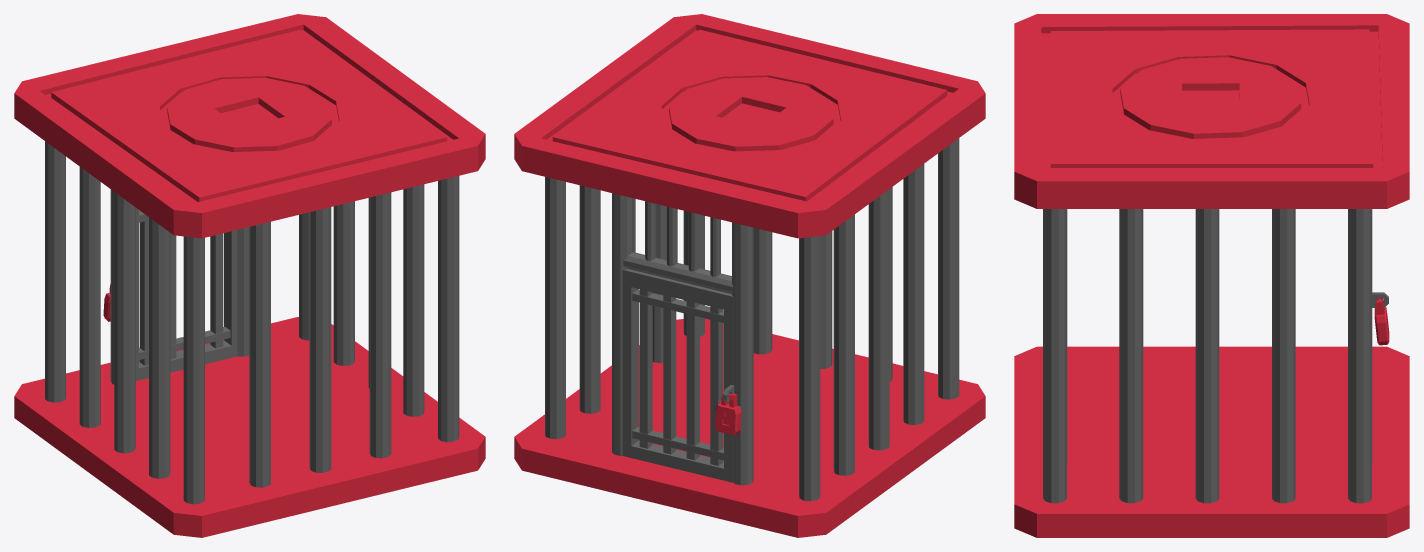
The model's file is Cage.fbx.
3 renders of one model, left to right at view 1: azimuth 30°, elevation 25°; view 2: azimuth 150°, elevation 25°; view 3: azimuth 270°, elevation 25°, orthographic. The views are drawn at different scales.
Visible parts, largest first — view 1: Cage, Cylinder.001, Cube.009; view 2: Cage, Cylinder.001, Cube.009, Cylinder.003, Cylinder.002, Cube.010; view 3: Cage, Cylinder.001, Cube.010.
Boxes of the visible parts, x1,y1,x2,y2 form: Cage: (14,14,485,537); Cylinder.001: (45,141,459,504); Cube.009: (135,208,237,380); Cage: (514,14,985,537); Cylinder.001: (545,138,959,501); Cube.009: (622,269,733,482); Cylinder.003: (645,201,720,276); Cylinder.002: (623,252,733,294); Cube.010: (715,392,741,435); Cage: (1014,14,1409,537); Cylinder.001: (1043,209,1372,503); Cube.010: (1374,297,1389,345).
Size of the model in its own units: 200 by 201 by 200.
